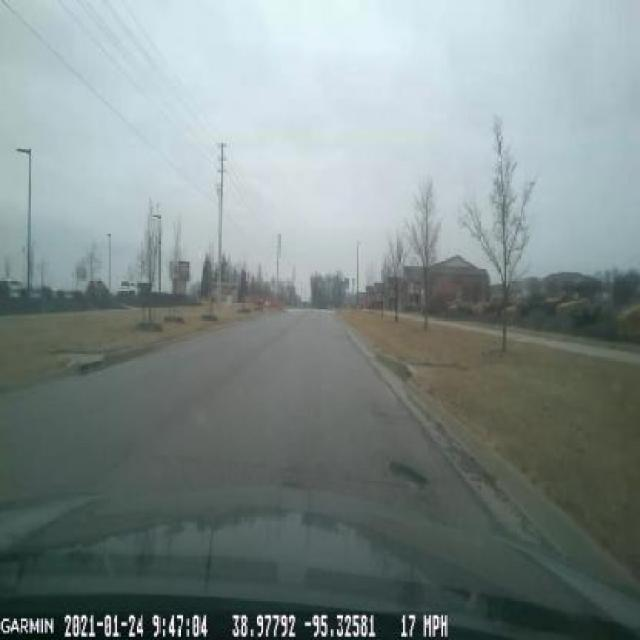Buraco: (382, 458, 434, 494)
